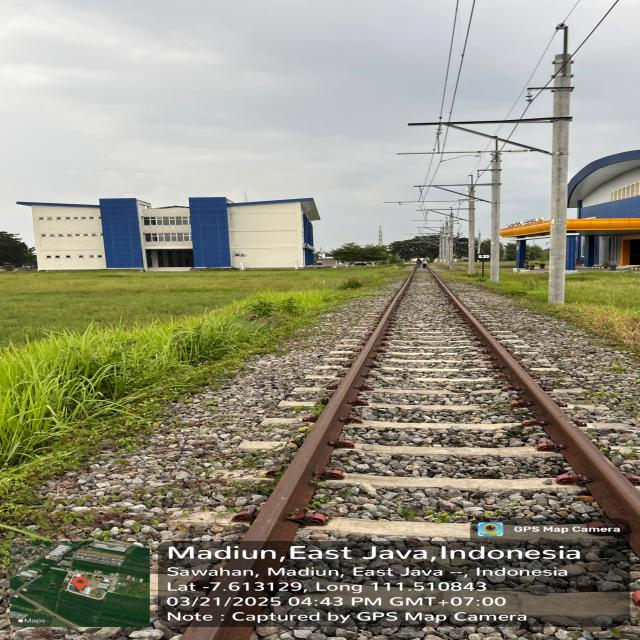rail-detection: (182, 277, 411, 640), (433, 275, 640, 555)
